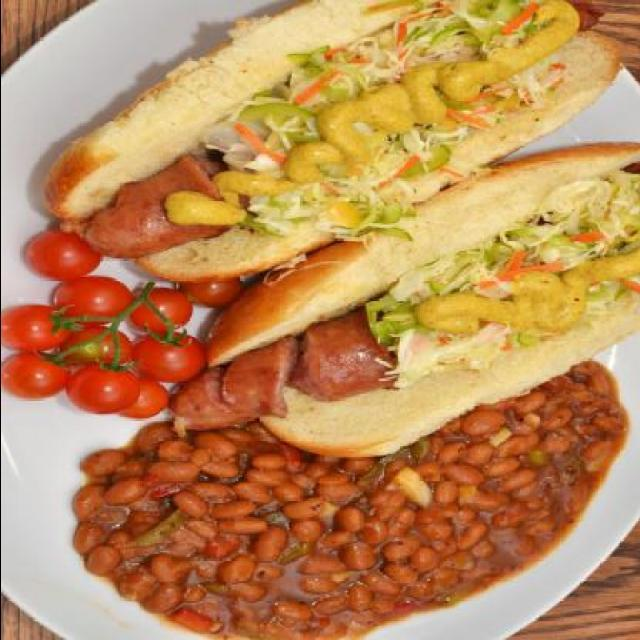Hot dog: (38, 1, 620, 284), (196, 136, 640, 452)
